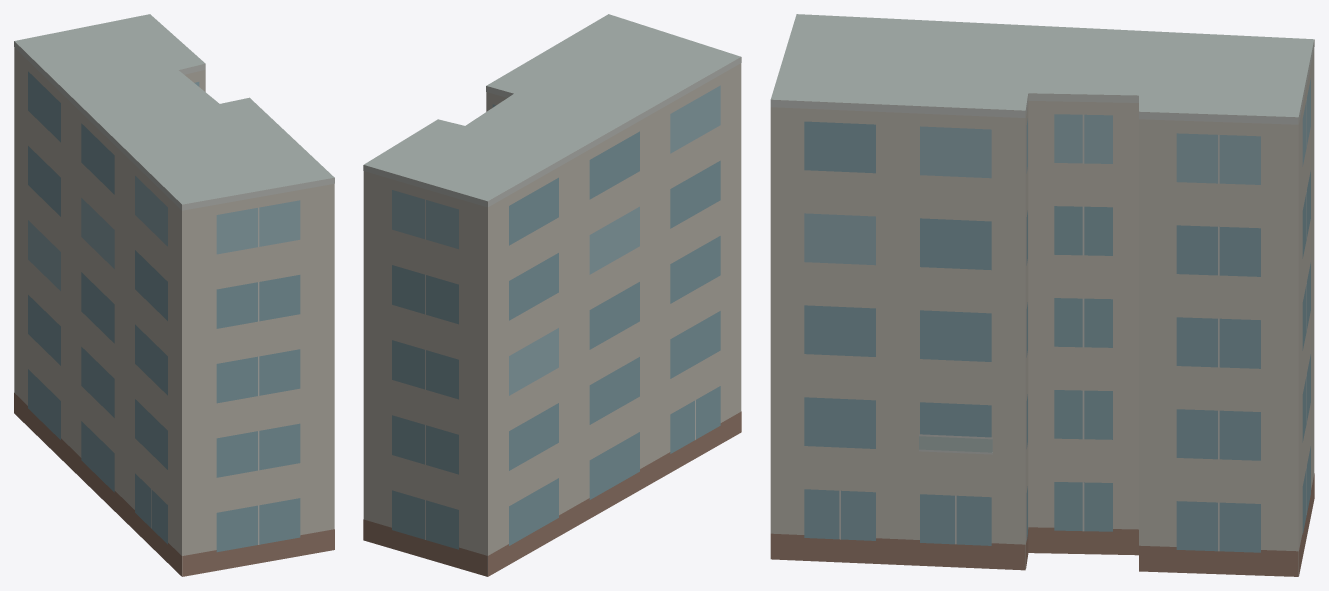
Rendered from survey-upis-33009668.glb.
3 views of the same model, side by side, from view 1: azimuth 30°, elevation 25°; view 2: azimuth 150°, elevation 25°; view 3: azimuth 270°, elevation 25° (orthographic). The views are drawn at different scales.
Visible parts, largest first — view 1: survey-upis-33009668.tmp; view 2: survey-upis-33009668.tmp; view 3: survey-upis-33009668.tmp.
Boxes of the visible parts, box(x1,y1,x2,y2) form: survey-upis-33009668.tmp: box(14, 14, 334, 576); survey-upis-33009668.tmp: box(363, 14, 741, 576); survey-upis-33009668.tmp: box(770, 14, 1314, 576).
Size of the model in its own units: 7.19 by 14.9 by 15.99.
